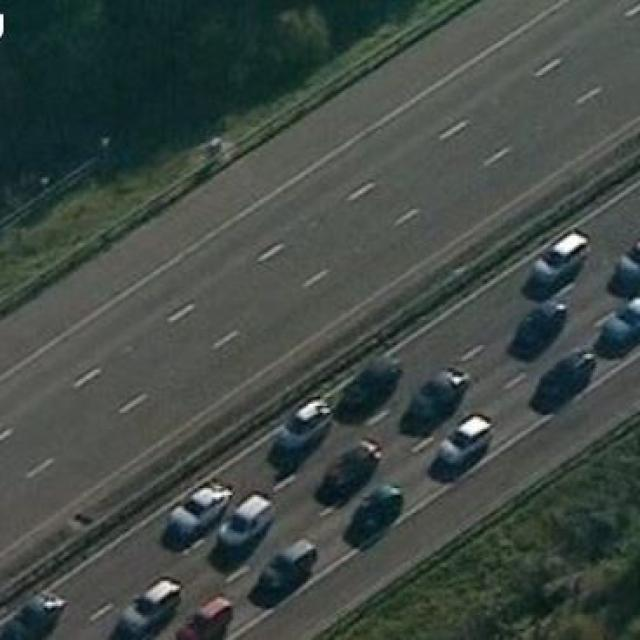traffic_incident: (262, 340, 394, 472)
